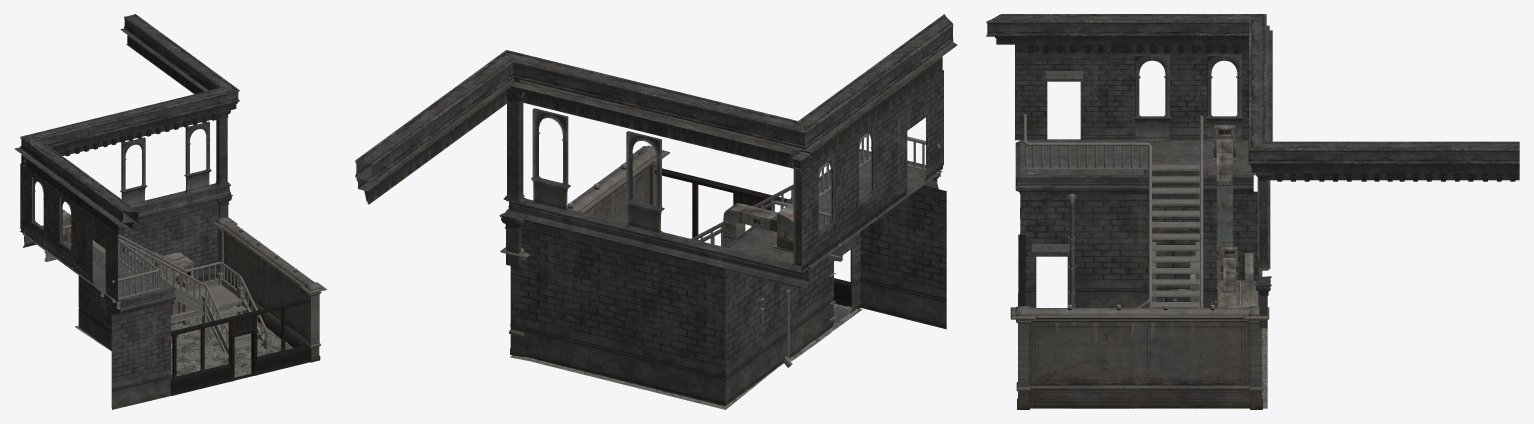
3 renders of one model, left to right at view 1: azimuth 30°, elevation 25°; view 2: azimuth 150°, elevation 25°; view 3: azimuth 270°, elevation 25°, orthographic. The views are drawn at different scales.
Visible parts, largest first — view 1: LOD_1_Group_0_Sub_2__st1_townPolice01_Mat, LOD_1_Group_0_Sub_1__st1_townPolice00_Mat, LOD_1_Group_0_Sub_3__st1_townPoliceFence00_Mat, LOD_1_Group_0_Sub_7__st2_police1fRightStairs02, LOD_1_Group_0_Sub_8__st2_police1fRightFrame01, LOD_1_Group_0_Sub_4__st1_townPoliceparts00_Mat, LOD_1_Group_0_Sub_6__st2_police1fRightFloor05, LOD_1_Group_0_Sub_5__st2_police1fRightFloor06, LOD_1_Group_0_Sub_10__st2_police1fRightBoiler01; view 2: LOD_1_Group_0_Sub_2__st1_townPolice01_Mat, LOD_1_Group_0_Sub_1__st1_townPolice00_Mat, LOD_1_Group_0_Sub_4__st1_townPoliceparts00_Mat, LOD_1_Group_0_Sub_3__st1_townPoliceFence00_Mat, LOD_1_Group_0_Sub_5__st2_police1fRightFloor06, LOD_1_Group_0_Sub_10__st2_police1fRightBoiler01, LOD_1_Group_0_Sub_7__st2_police1fRightStairs02, LOD_1_Group_0_Sub_8__st2_police1fRightFrame01, LOD_1_Group_0_Sub_6__st2_police1fRightFloor05; view 3: LOD_1_Group_0_Sub_2__st1_townPolice01_Mat, LOD_1_Group_0_Sub_3__st1_townPoliceFence00_Mat, LOD_1_Group_0_Sub_1__st1_townPolice00_Mat, LOD_1_Group_0_Sub_7__st2_police1fRightStairs02, LOD_1_Group_0_Sub_5__st2_police1fRightFloor06, LOD_1_Group_0_Sub_10__st2_police1fRightBoiler01, LOD_1_Group_0_Sub_4__st1_townPoliceparts00_Mat, LOD_1_Group_0_Sub_8__st2_police1fRightFrame01, LOD_1_Group_0_Sub_12__st2_IronPipeDuctCable_A3, LOD_1_Group_0_Sub_6__st2_police1fRightFloor05.
Boxes of the visible parts, x1,y1,x2,y2 form: LOD_1_Group_0_Sub_2__st1_townPolice01_Mat: (14, 28, 237, 409); LOD_1_Group_0_Sub_1__st1_townPolice00_Mat: (20, 14, 239, 314); LOD_1_Group_0_Sub_3__st1_townPoliceFence00_Mat: (213, 217, 326, 362); LOD_1_Group_0_Sub_7__st2_police1fRightStairs02: (44, 224, 271, 357); LOD_1_Group_0_Sub_8__st2_police1fRightFrame01: (171, 228, 310, 395); LOD_1_Group_0_Sub_4__st1_townPoliceparts00_Mat: (22, 110, 232, 269); LOD_1_Group_0_Sub_6__st2_police1fRightFloor05: (75, 305, 292, 377); LOD_1_Group_0_Sub_5__st2_police1fRightFloor06: (24, 234, 178, 337); LOD_1_Group_0_Sub_10__st2_police1fRightBoiler01: (62, 209, 194, 325); LOD_1_Group_0_Sub_2__st1_townPolice01_Mat: (356, 41, 957, 406); LOD_1_Group_0_Sub_1__st1_townPolice00_Mat: (355, 14, 953, 290); LOD_1_Group_0_Sub_4__st1_townPoliceparts00_Mat: (499, 90, 878, 268); LOD_1_Group_0_Sub_3__st1_townPoliceFence00_Mat: (500, 145, 669, 356); LOD_1_Group_0_Sub_5__st2_police1fRightFloor06: (729, 151, 942, 327); LOD_1_Group_0_Sub_10__st2_police1fRightBoiler01: (723, 203, 793, 323); LOD_1_Group_0_Sub_7__st2_police1fRightStairs02: (691, 134, 940, 367); LOD_1_Group_0_Sub_8__st2_police1fRightFrame01: (568, 163, 860, 308); LOD_1_Group_0_Sub_6__st2_police1fRightFloor05: (510, 303, 862, 409); LOD_1_Group_0_Sub_2__st1_townPolice01_Mat: (995, 25, 1519, 384); LOD_1_Group_0_Sub_3__st1_townPoliceFence00_Mat: (1010, 306, 1269, 409); LOD_1_Group_0_Sub_1__st1_townPolice00_Mat: (986, 14, 1519, 280); LOD_1_Group_0_Sub_7__st2_police1fRightStairs02: (1023, 114, 1203, 307); LOD_1_Group_0_Sub_5__st2_police1fRightFloor06: (1020, 71, 1256, 253); LOD_1_Group_0_Sub_10__st2_police1fRightBoiler01: (1163, 125, 1258, 307); LOD_1_Group_0_Sub_4__st1_townPoliceparts00_Mat: (1133, 54, 1271, 328); LOD_1_Group_0_Sub_8__st2_police1fRightFrame01: (1018, 234, 1214, 310); LOD_1_Group_0_Sub_12__st2_IronPipeDuctCable_A3: (1067, 194, 1075, 307); LOD_1_Group_0_Sub_6__st2_police1fRightFloor05: (1030, 328, 1267, 408).
Size of the model in its own units: 11 by 10.22 by 17.89.
